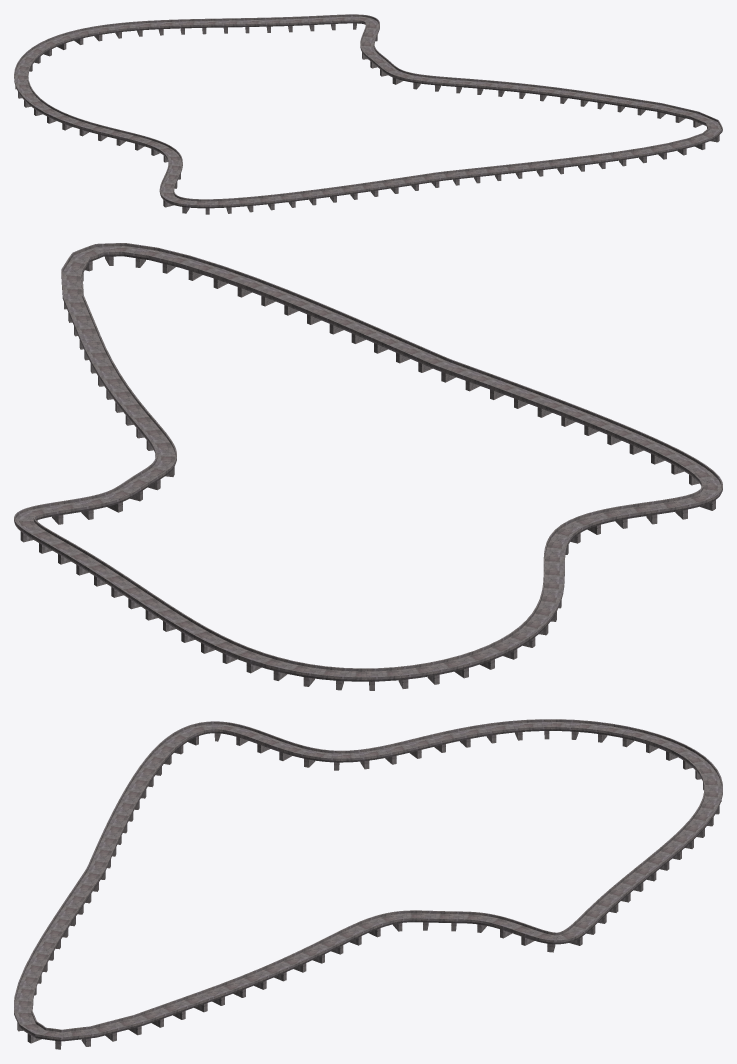
Rendered from road1.glb.
3 views of the same model, one above another, from view 1: azimuth 30°, elevation 25°; view 2: azimuth 150°, elevation 25°; view 3: azimuth 270°, elevation 25° (orthographic). The views are drawn at different scales.
Visible parts, largest first — view 1: road1-col; view 2: road1-col; view 3: road1-col.
Part boxes in pixels (x1,y1,x2,y2): road1-col: (14,14,722,214); road1-col: (14,243,722,690); road1-col: (14,719,722,1049).
Bounding box in the file's own units: 160 × 2.97 × 151.
1 material, 1 textured.
